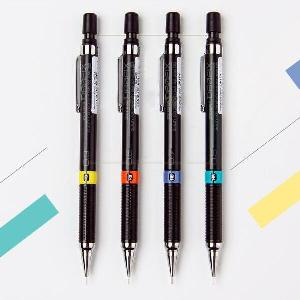pen: (195, 10, 228, 285), (113, 10, 146, 283), (72, 10, 103, 281), (158, 10, 188, 284)
